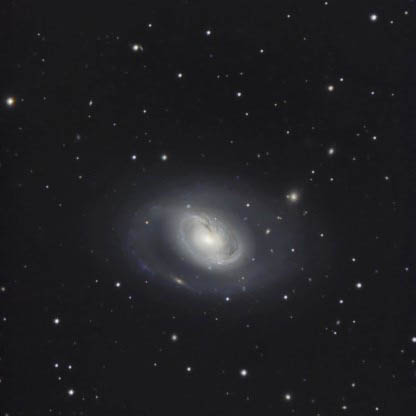Messier 96: (112, 179, 318, 307)
